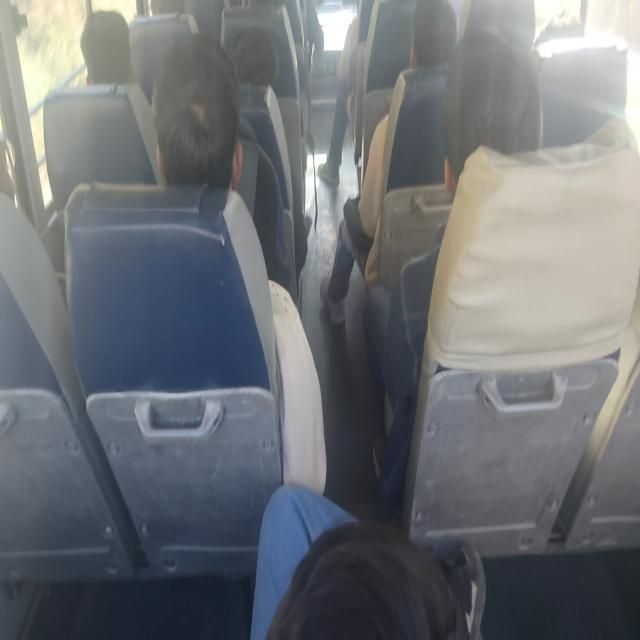person: (248, 505, 486, 640), (443, 27, 549, 217), (148, 52, 247, 224), (220, 13, 293, 108), (75, 9, 143, 97), (526, 6, 582, 80), (0, 115, 34, 224), (398, 9, 467, 60)
